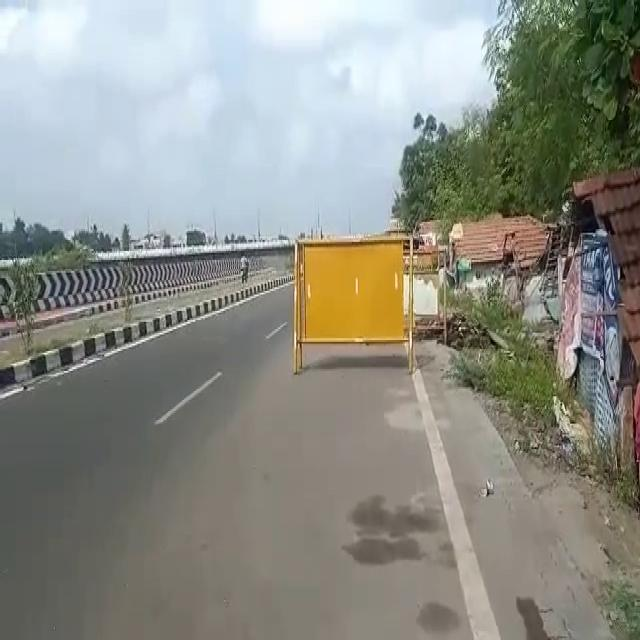fallen_object: (262, 212, 444, 395)
